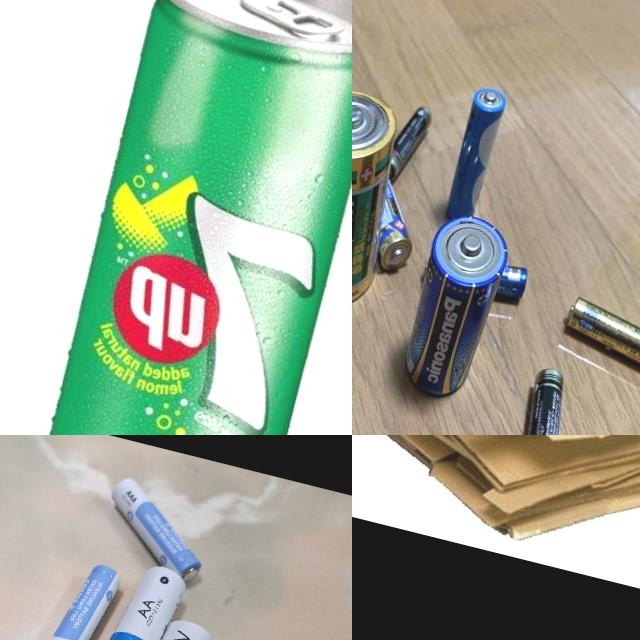aba de lata: (231, 0, 351, 45)
bateria: (395, 208, 516, 402), (352, 72, 418, 318), (96, 474, 216, 584), (438, 79, 511, 226), (75, 555, 187, 640), (352, 160, 430, 277), (27, 553, 124, 640), (553, 289, 640, 382), (492, 363, 586, 435), (414, 247, 530, 304), (369, 96, 437, 190)
lata: (14, 0, 352, 435)
papelão: (352, 435, 640, 617)
